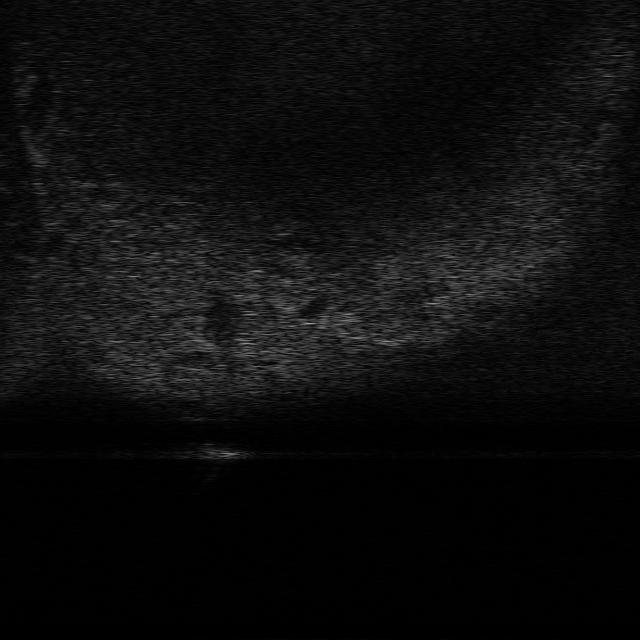cube: (176, 439, 255, 464)
